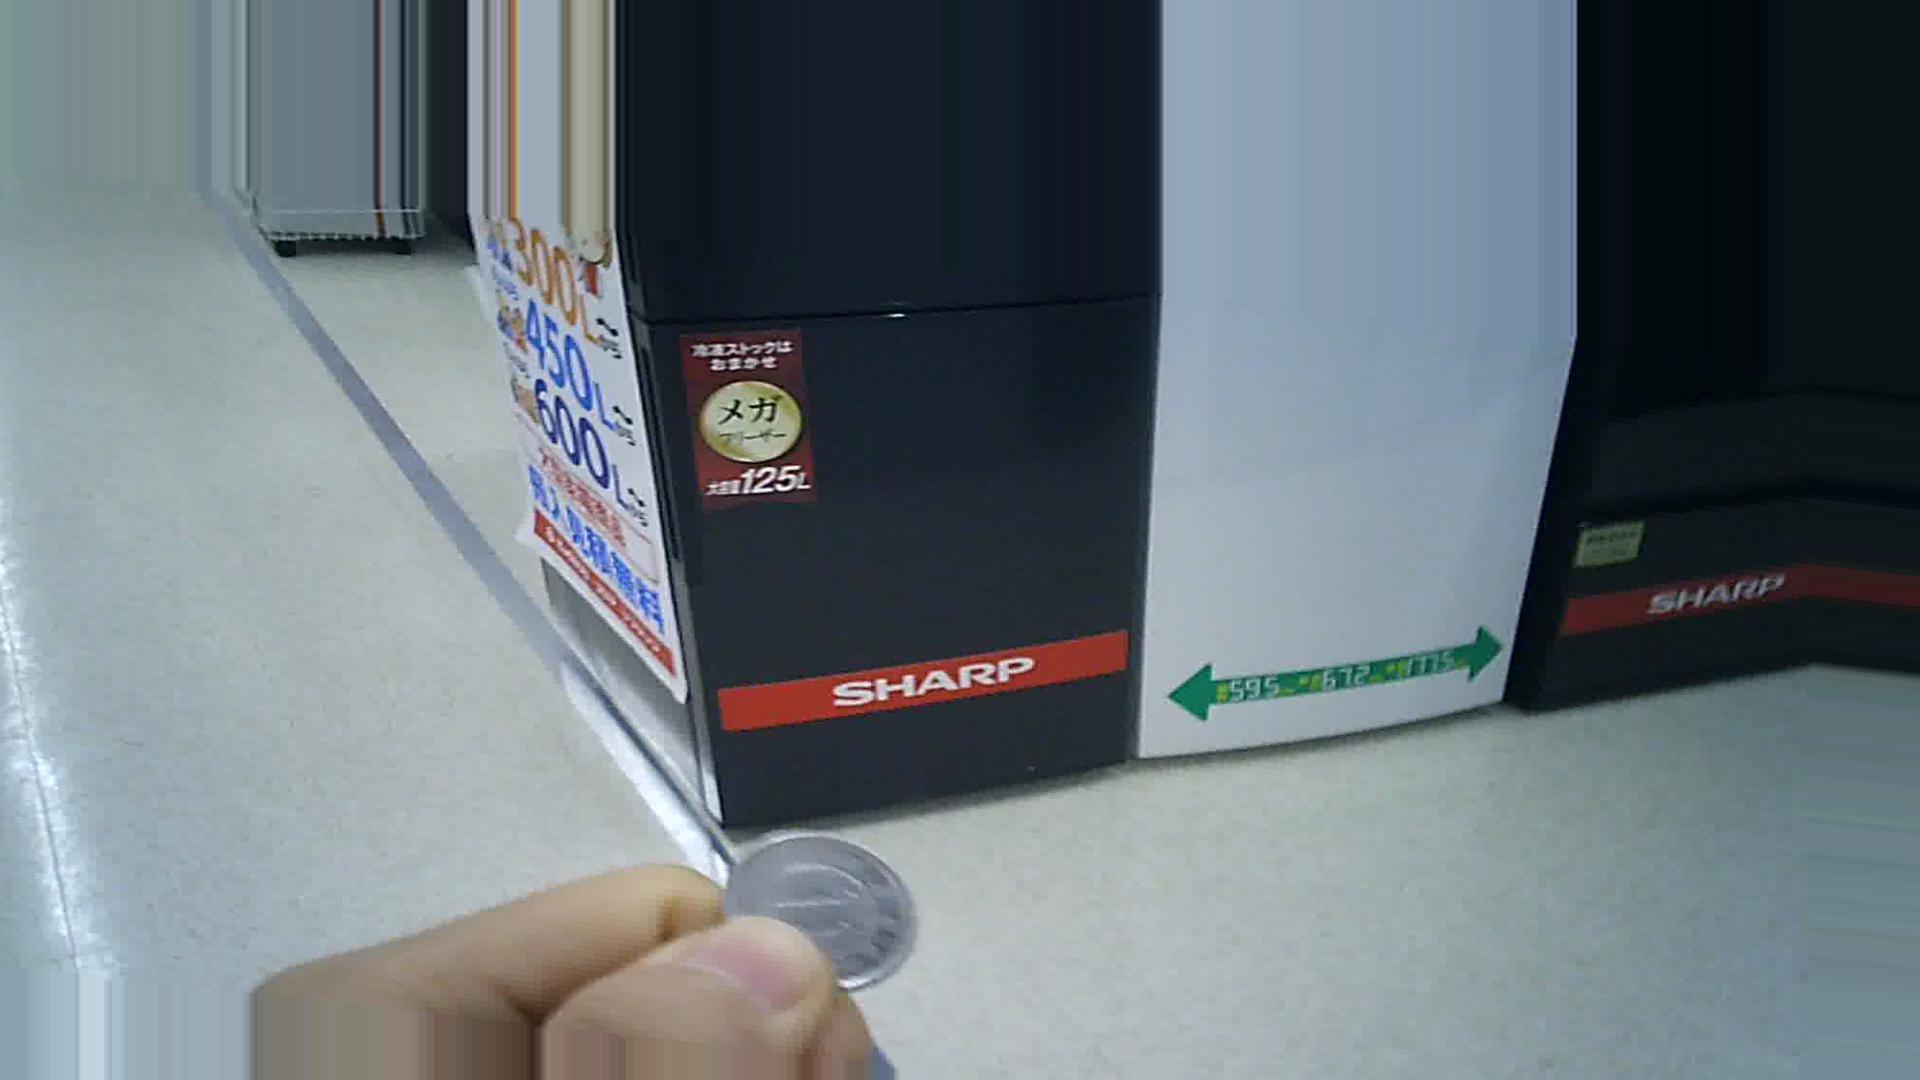1 Yen: (715, 814, 916, 997)
